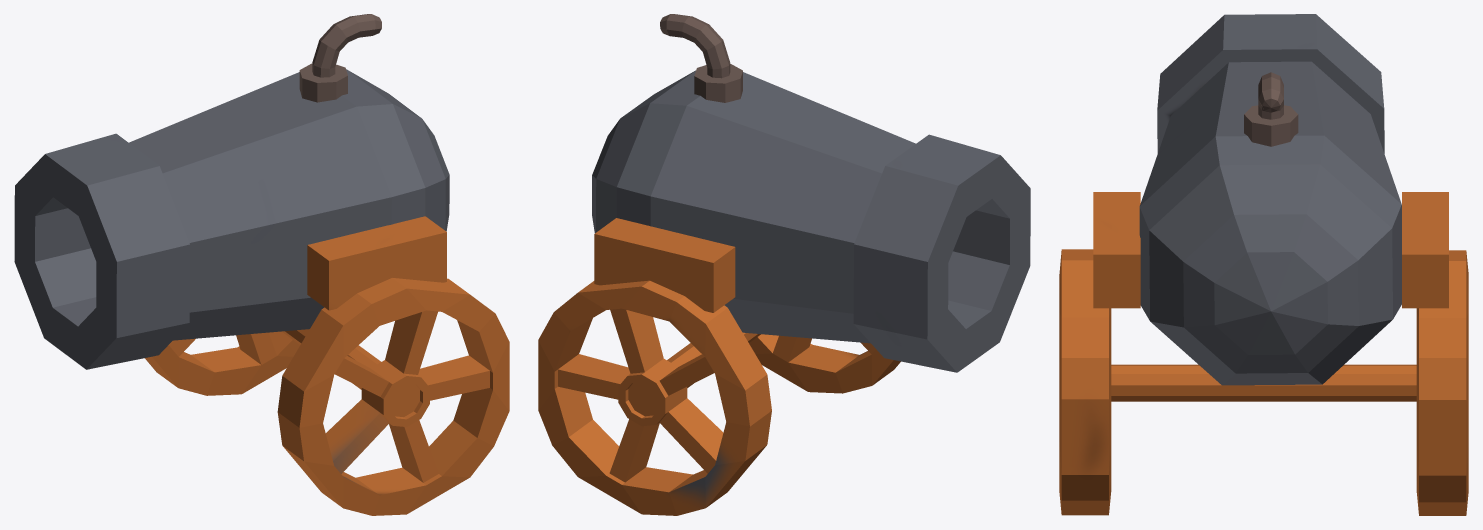
The model's file is conhao.obj.
3 views of the same model, side by side, from view 1: azimuth 30°, elevation 25°; view 2: azimuth 150°, elevation 25°; view 3: azimuth 270°, elevation 25° (orthographic). The views are drawn at different scales.
Size of the model in its own units: 20.2 by 21.61 by 17.75.
